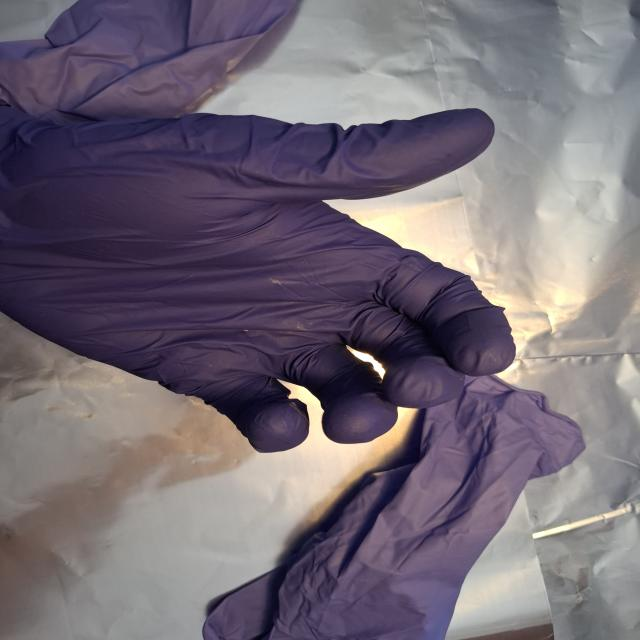glove_on: (0, 99, 523, 454)
